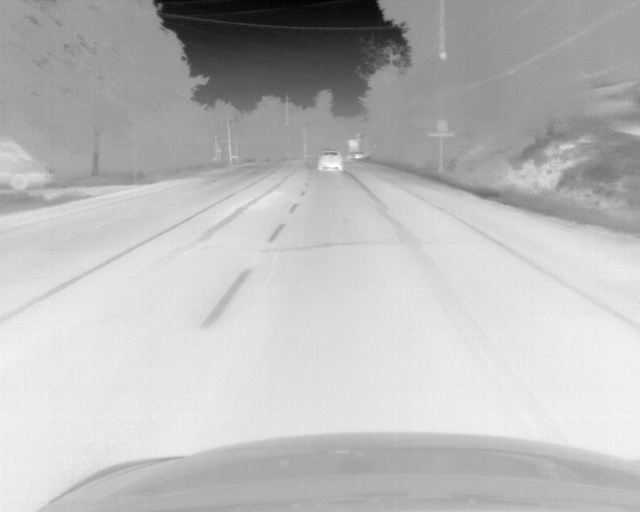car: (1, 133, 52, 193), (316, 149, 342, 174), (345, 140, 364, 160)
